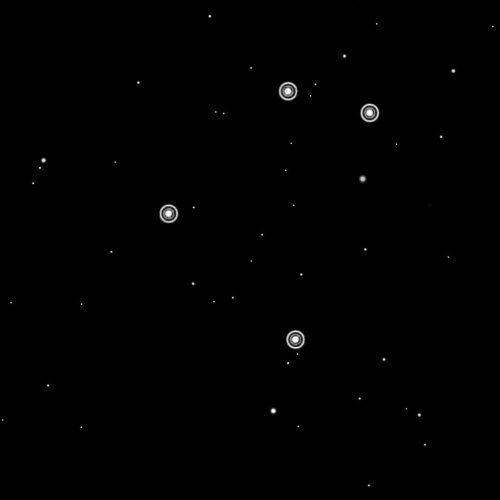coma_berenices: (155, 69, 386, 354)
